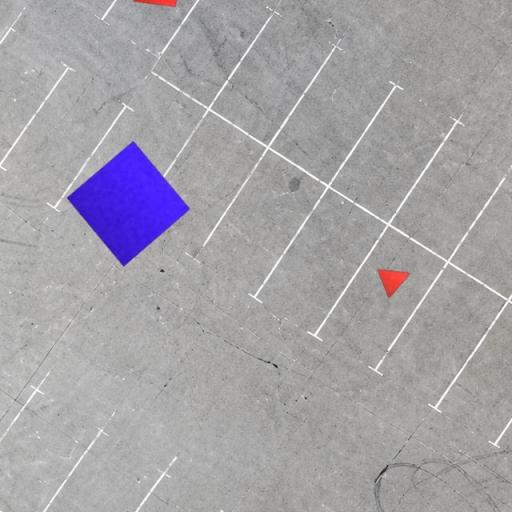BLUE_SQUARE: (66, 140, 192, 267)
